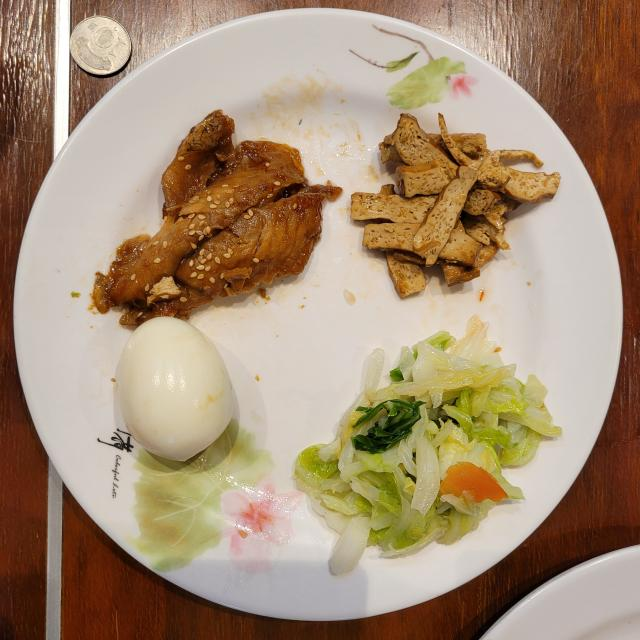Kabayaki sea bream fillet: (92, 110, 341, 325)
cabbage: (294, 316, 561, 575)
coin: (70, 16, 131, 75)
